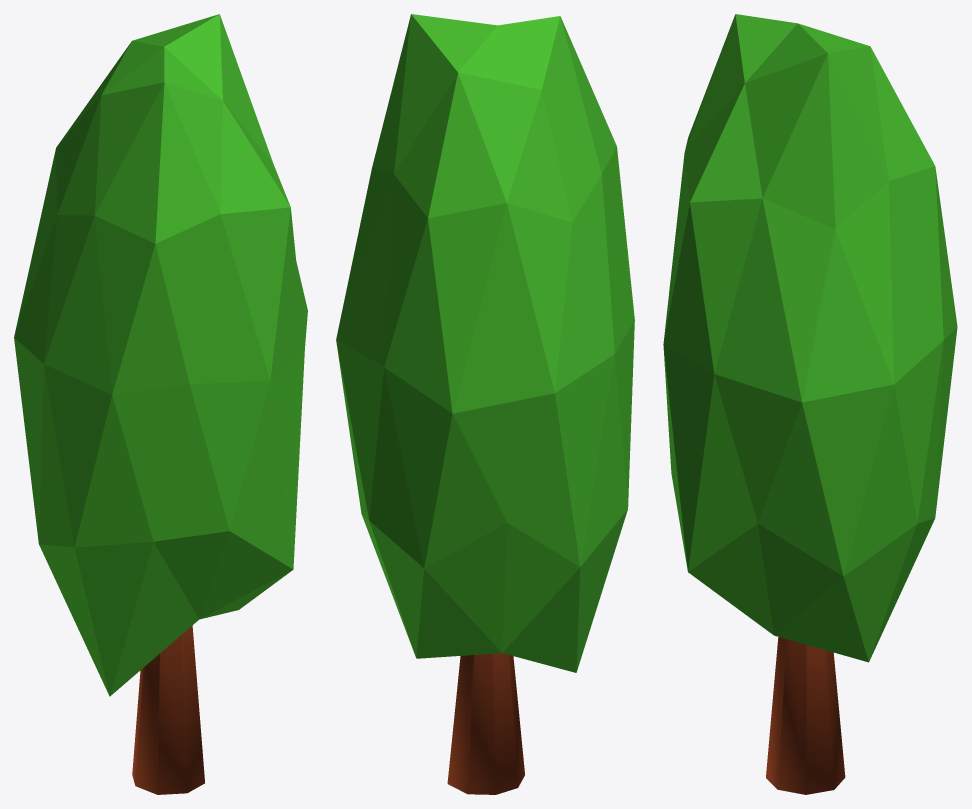
The model's file is Tree4.fbx.
3 renders of one model, left to right at view 1: azimuth 30°, elevation 25°; view 2: azimuth 150°, elevation 25°; view 3: azimuth 270°, elevation 25°, orthographic. The views are drawn at different scales.
Parts seen in each view (by area): view 1: Tree_05_summer_pal; view 2: Tree_05_summer_pal; view 3: Tree_05_summer_pal.
Boxes of the visible parts, x1,y1,x2,y2 form: Tree_05_summer_pal: (14,14,307,794); Tree_05_summer_pal: (336,14,634,794); Tree_05_summer_pal: (663,14,957,794).
Bounding box in the file's own units: 272 × 732 × 258.
